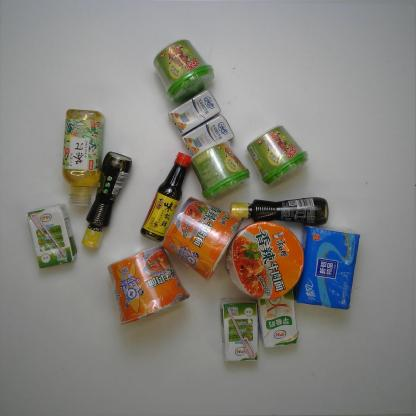Drink: (61, 108, 106, 206)
Instant Drink: (152, 38, 216, 104), (246, 125, 310, 185), (190, 142, 250, 200)
Instant Noodles: (162, 195, 243, 280), (107, 245, 190, 326), (224, 220, 303, 300)
Milk: (26, 204, 78, 268), (257, 287, 300, 348), (218, 298, 258, 362), (168, 89, 222, 135), (182, 115, 235, 158)
Seasoner: (81, 151, 133, 248), (140, 152, 193, 241), (231, 197, 330, 223)
Tissue: (293, 224, 361, 311)
